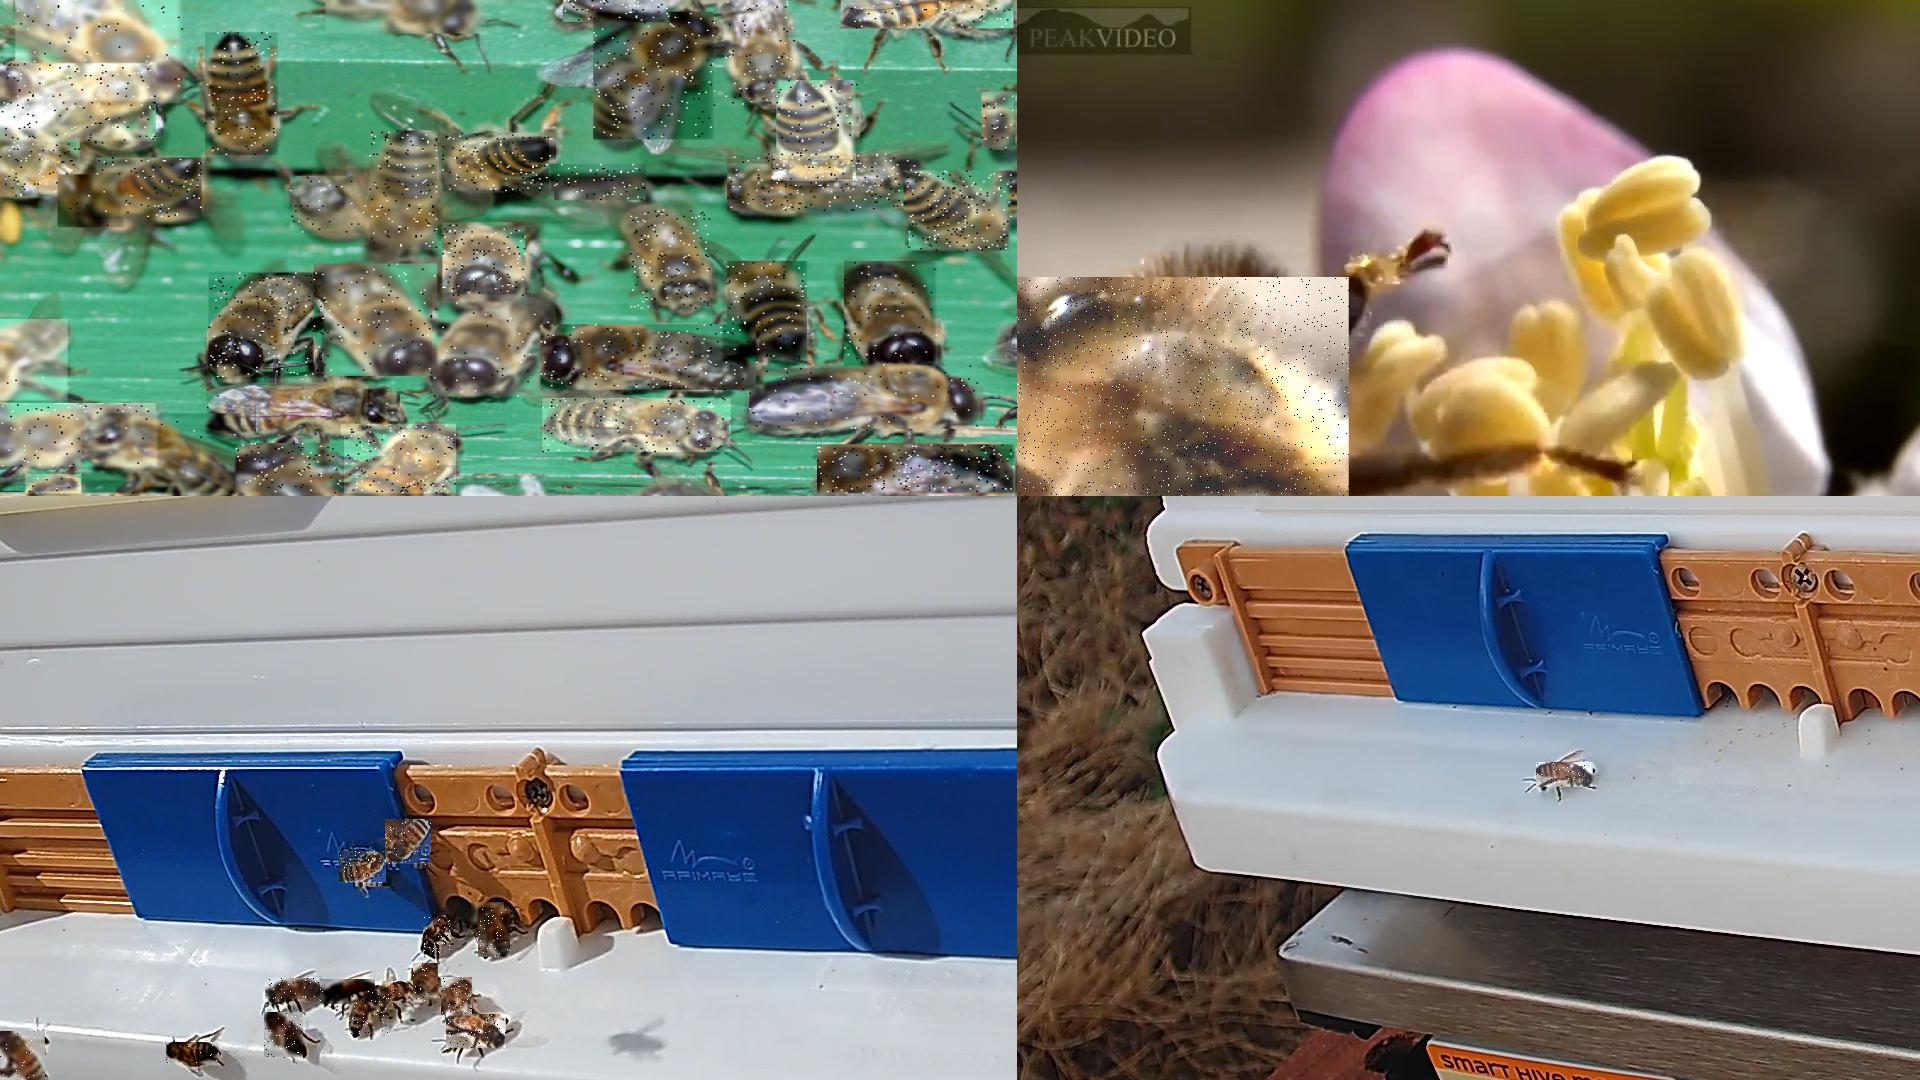bee: (1017, 277, 1352, 495), (595, 12, 719, 141), (82, 413, 243, 495), (0, 65, 158, 146), (728, 154, 919, 212), (543, 398, 732, 454), (0, 405, 158, 468), (816, 444, 1015, 495), (206, 33, 280, 157), (208, 389, 398, 436), (910, 170, 1015, 253), (778, 80, 861, 181), (369, 132, 439, 251), (630, 210, 712, 310), (727, 261, 808, 361), (344, 423, 458, 495), (724, 0, 799, 105), (444, 133, 558, 193), (98, 158, 204, 219), (0, 129, 82, 200), (0, 319, 70, 402), (327, 0, 487, 36), (841, 0, 1015, 30), (291, 177, 369, 236), (59, 174, 129, 228), (555, 165, 647, 202), (563, 0, 671, 22), (385, 820, 433, 868), (0, 1031, 47, 1079), (446, 1014, 506, 1050), (981, 92, 1015, 152), (265, 1013, 306, 1060), (349, 992, 390, 1036), (339, 852, 388, 886), (479, 909, 512, 959), (1536, 762, 1594, 789), (320, 978, 376, 1005), (265, 978, 323, 1002), (442, 978, 473, 1019), (167, 1043, 222, 1065), (25, 475, 83, 495), (423, 915, 452, 955), (413, 964, 439, 1004), (376, 982, 414, 1007), (471, 903, 505, 928)
drone: (16, 0, 185, 104), (750, 365, 985, 430), (542, 324, 765, 392), (314, 264, 439, 377), (433, 294, 558, 398), (208, 273, 326, 384), (845, 261, 943, 367), (443, 223, 527, 303), (237, 444, 344, 496)
